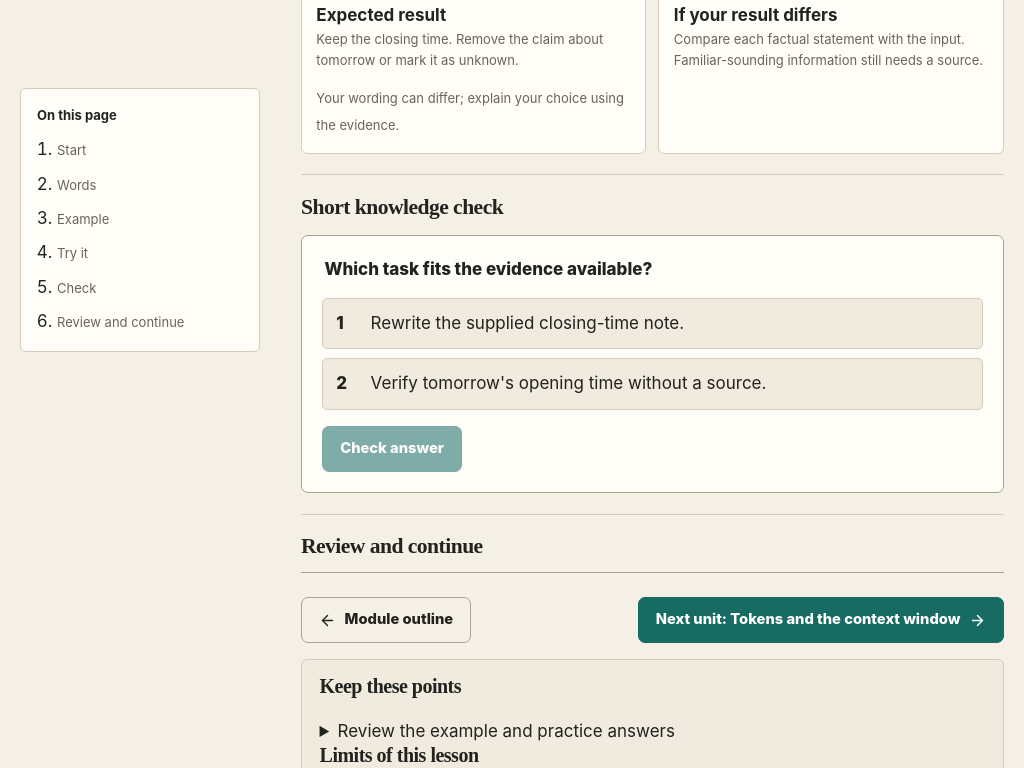
Scenario: open academy route › gives answer-specific feedback, permits a retry, and writes no progress for an incorrect answer
(page scrolled)
Click the radio button labelled "2 Verify tomorrow's opening time without a source." at [652, 384], box [322,358,982,410]
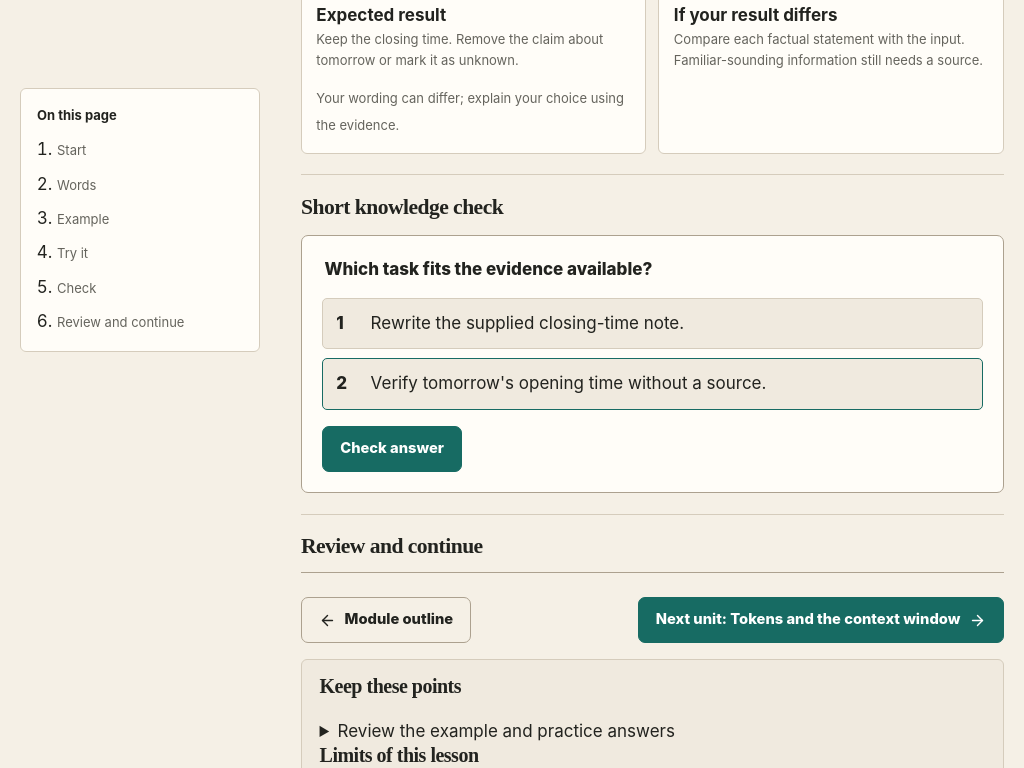
Click the button "Check answer" at [392, 449], box [322,426,462,472]
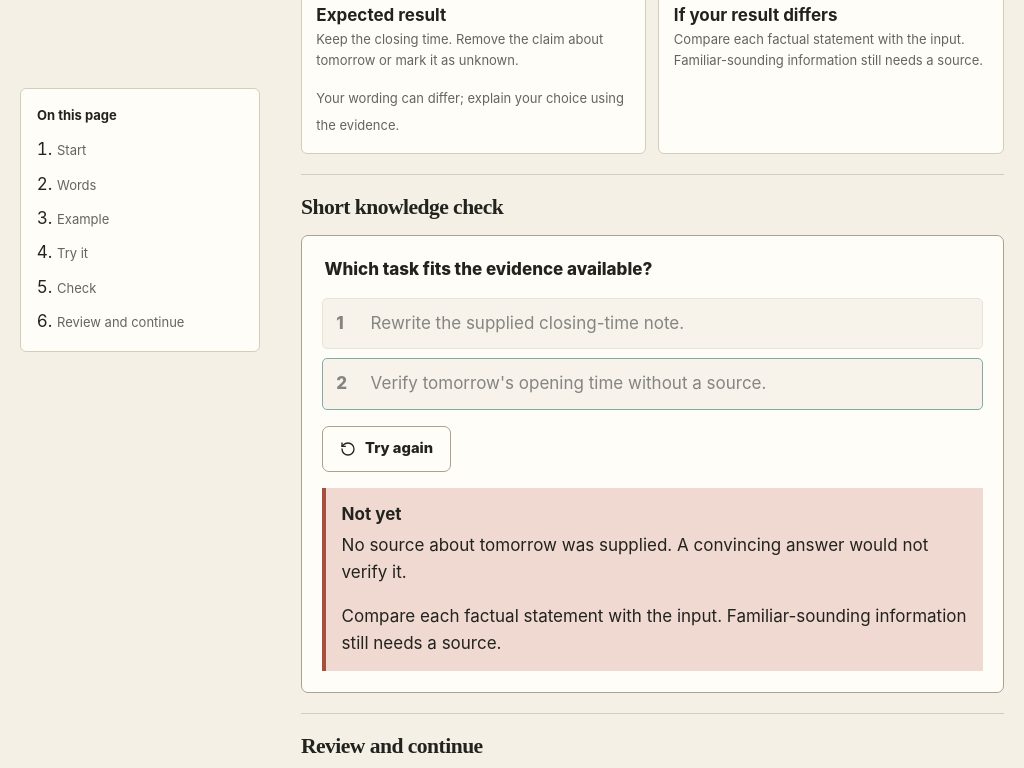
expect the message shows "Not yet": met, box [342,504,402,524]
expect the message shows "No source about tomorrow was supplied. A convincing answer would not verify it.": met, box [342,535,928,582]
expect the message shows "Compare each factual statement with the input. Familiar-sounding information still needs a source.": met, box [342,606,966,653]
Click the button "Try again" at [387, 449], box [322,426,451,472]
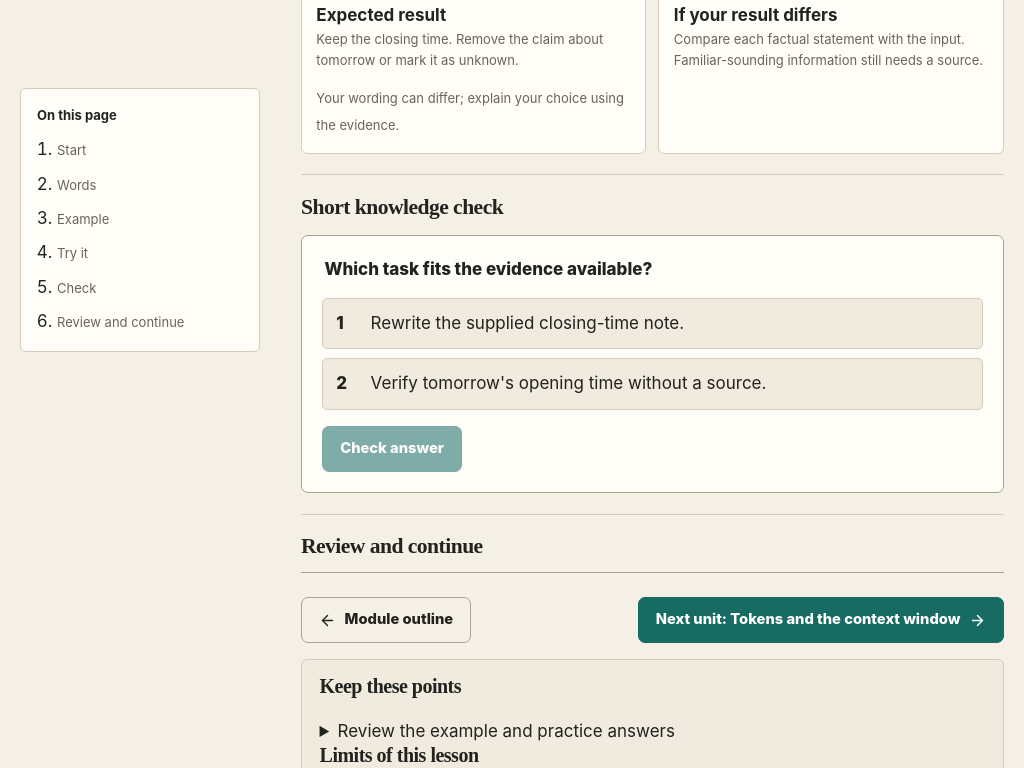
expect the message is gone: met
